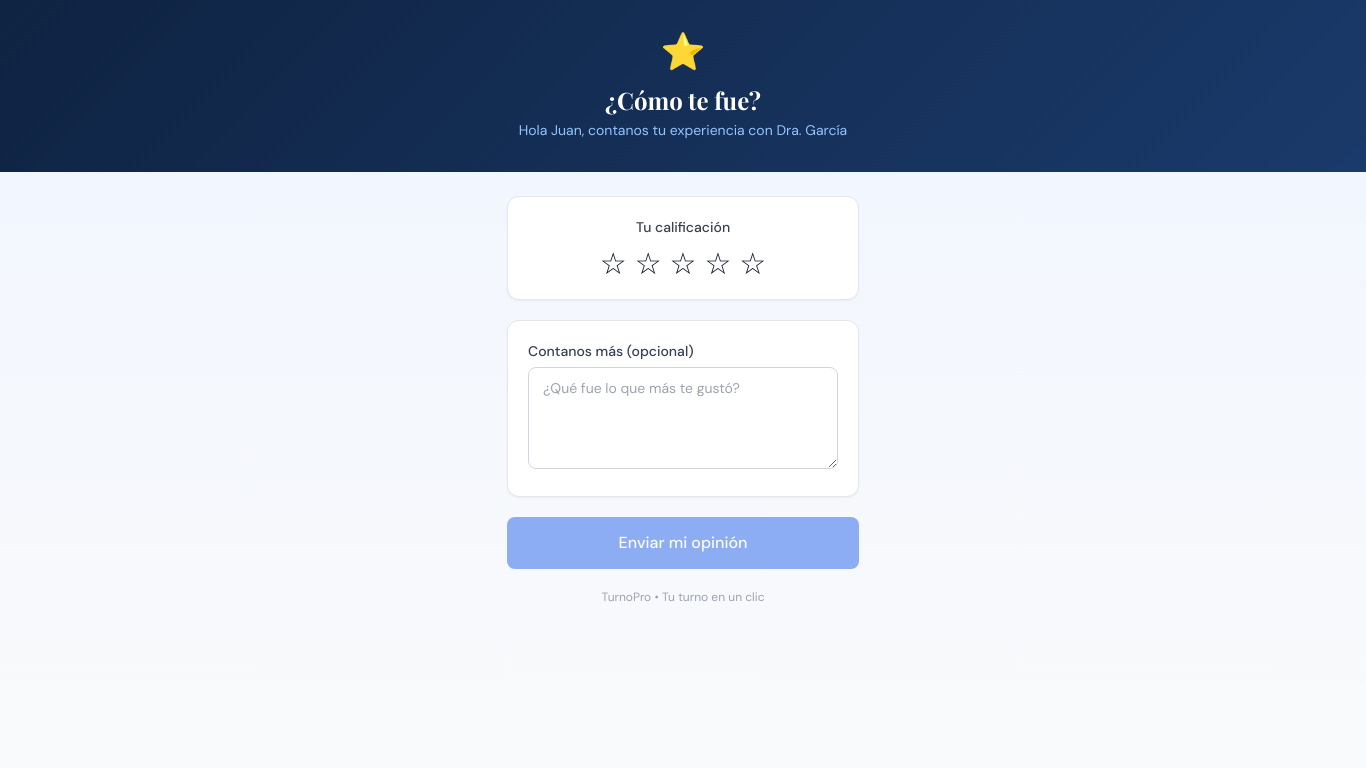
it: ReviewPage › envía la reseña con la calificación elegida y muestra agradecimiento
Click the button named "4 estrellas": [718, 264] box [704,249,731,279]
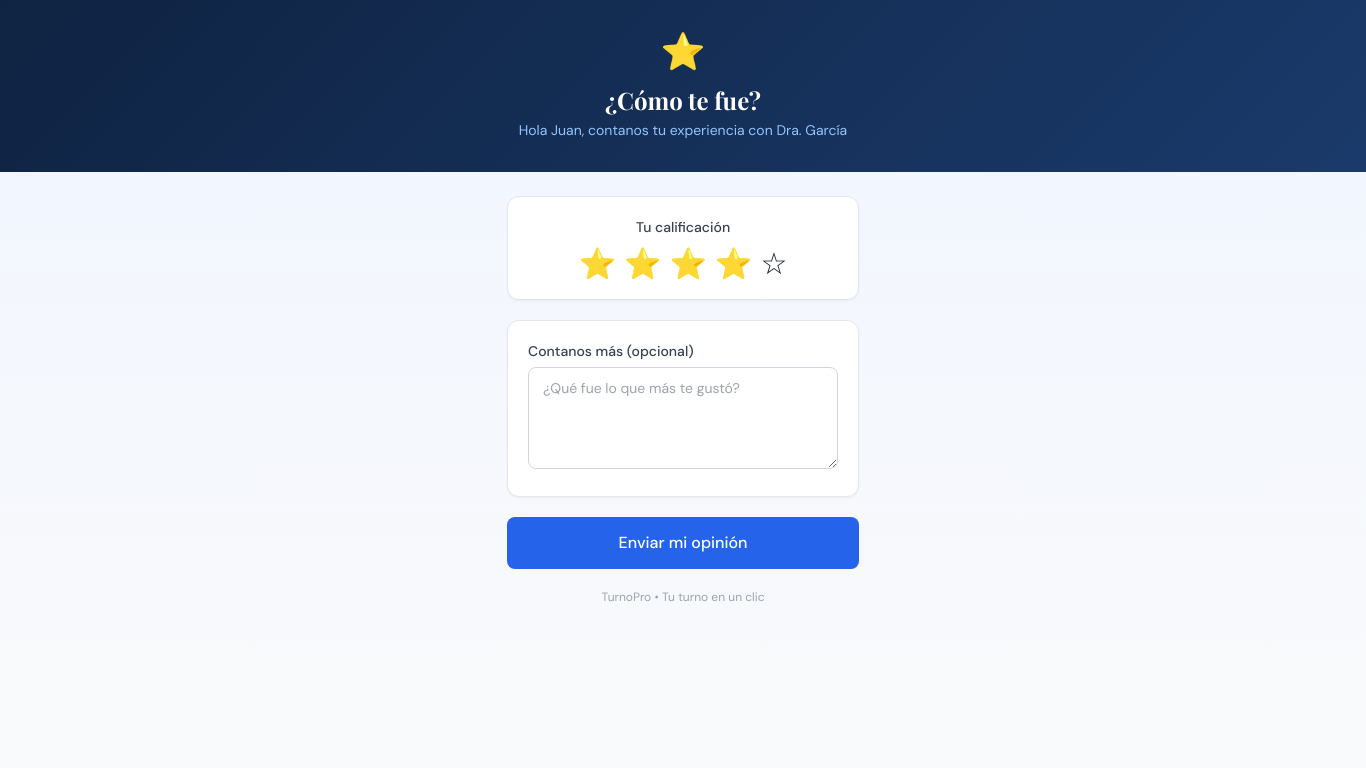
Click the button "Enviar mi opinión": [683, 543] box [507,517,859,569]
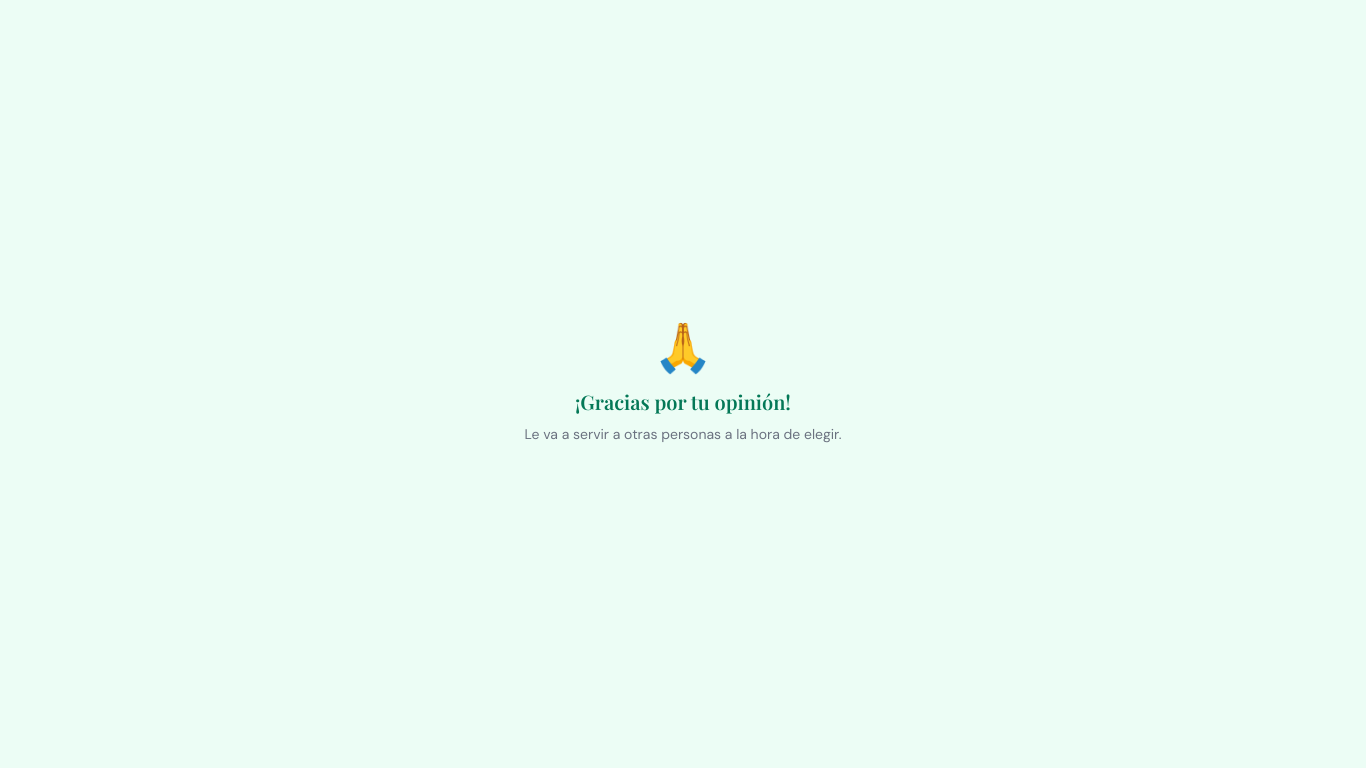
expect the text "¡Gracias por tu opinión!" is shown: met, box [575,388,791,415]
